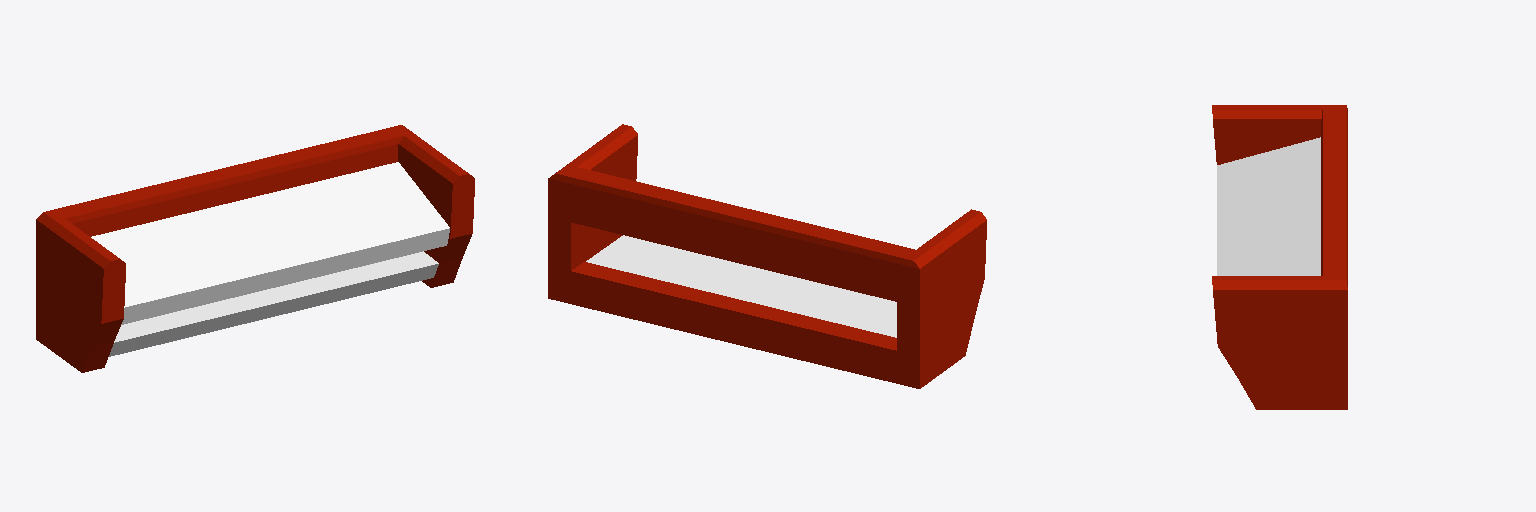
The model's file is WingsKart4.obj.
3 renders of one model, left to right at view 1: azimuth 30°, elevation 25°; view 2: azimuth 150°, elevation 25°; view 3: azimuth 270°, elevation 25°, orthographic.
Visible parts, largest first — view 1: WingsKart4_Cube.012; view 2: WingsKart4_Cube.012; view 3: WingsKart4_Cube.012.
Part boxes in pixels (bbox=[...]): WingsKart4_Cube.012: bbox=[36, 125, 474, 372]; WingsKart4_Cube.012: bbox=[548, 124, 986, 388]; WingsKart4_Cube.012: bbox=[1212, 105, 1347, 409].
Bounding box in the file's own units: 5.36 × 1.75 × 1.69.